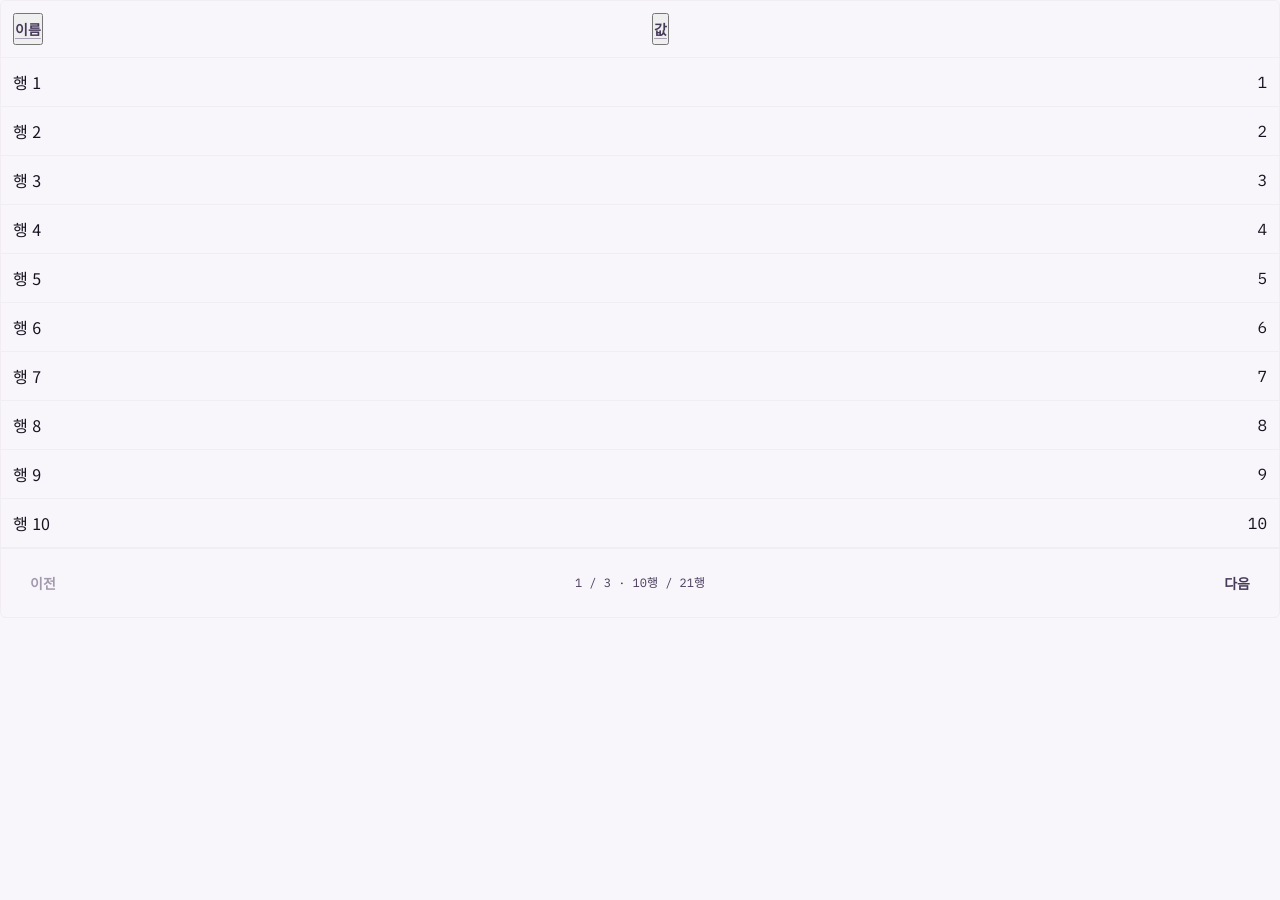
Test: DataTable contracts › paginates dense rows without hiding the row count
This screenshot has width=1280, height=900.
Expected: the navigation bar named "밀도 표 페이지 탐색" is shown, [1,548,1279,617]
Expected: the text "1 / 3 · 10행 / 21행" is shown, [575,571,705,595]
Step 1. Click the button with aria-label "밀도 표 다음 페이지" → [1237, 583], box [1207,561,1267,605]
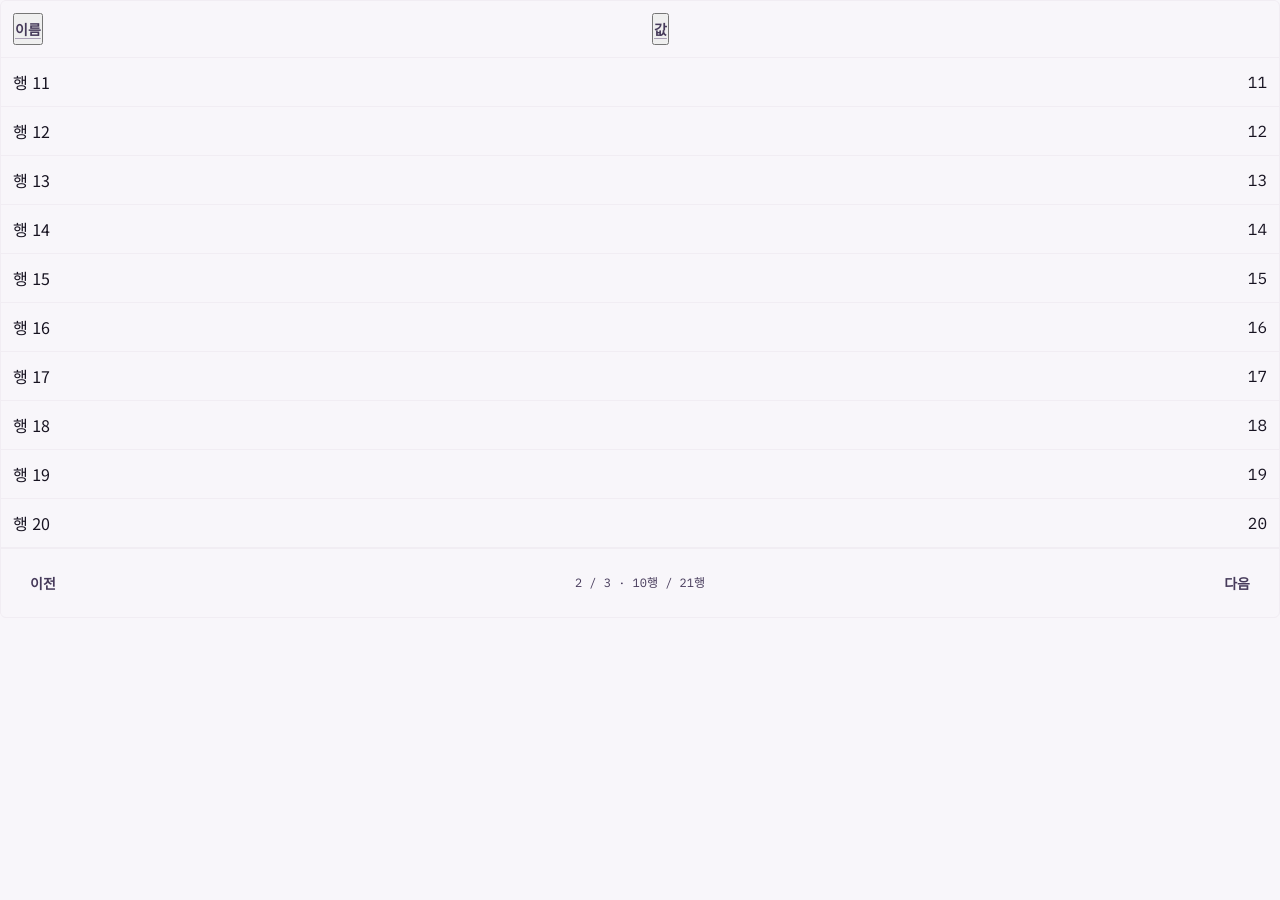
Now the text "2 / 3 · 10행 / 21행" is shown, box [575,571,705,595]
